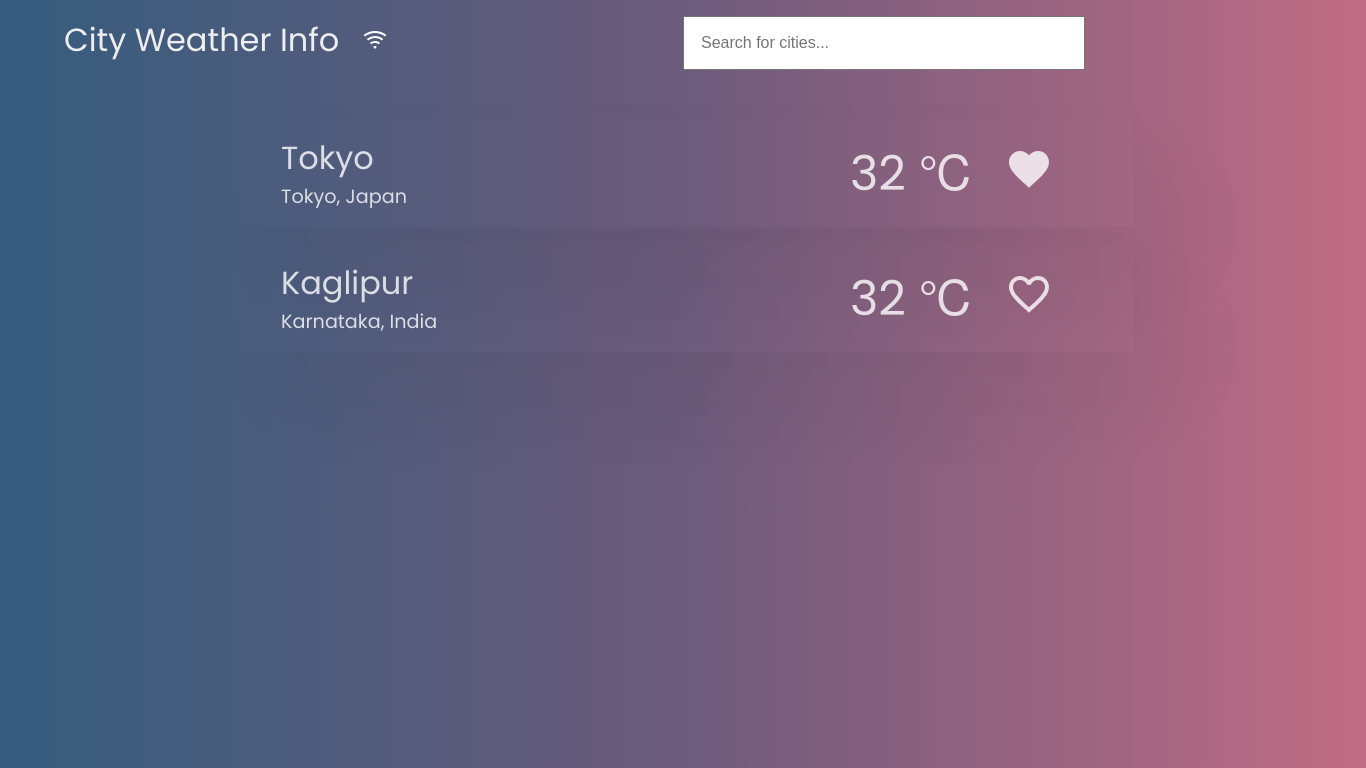
Test: index › should load detail on click
What coordinates should you click on to do the following:
click the heading "Tokyo, Japan"
I would click on:
 (344, 196)
Its box is [281,183,407,210].
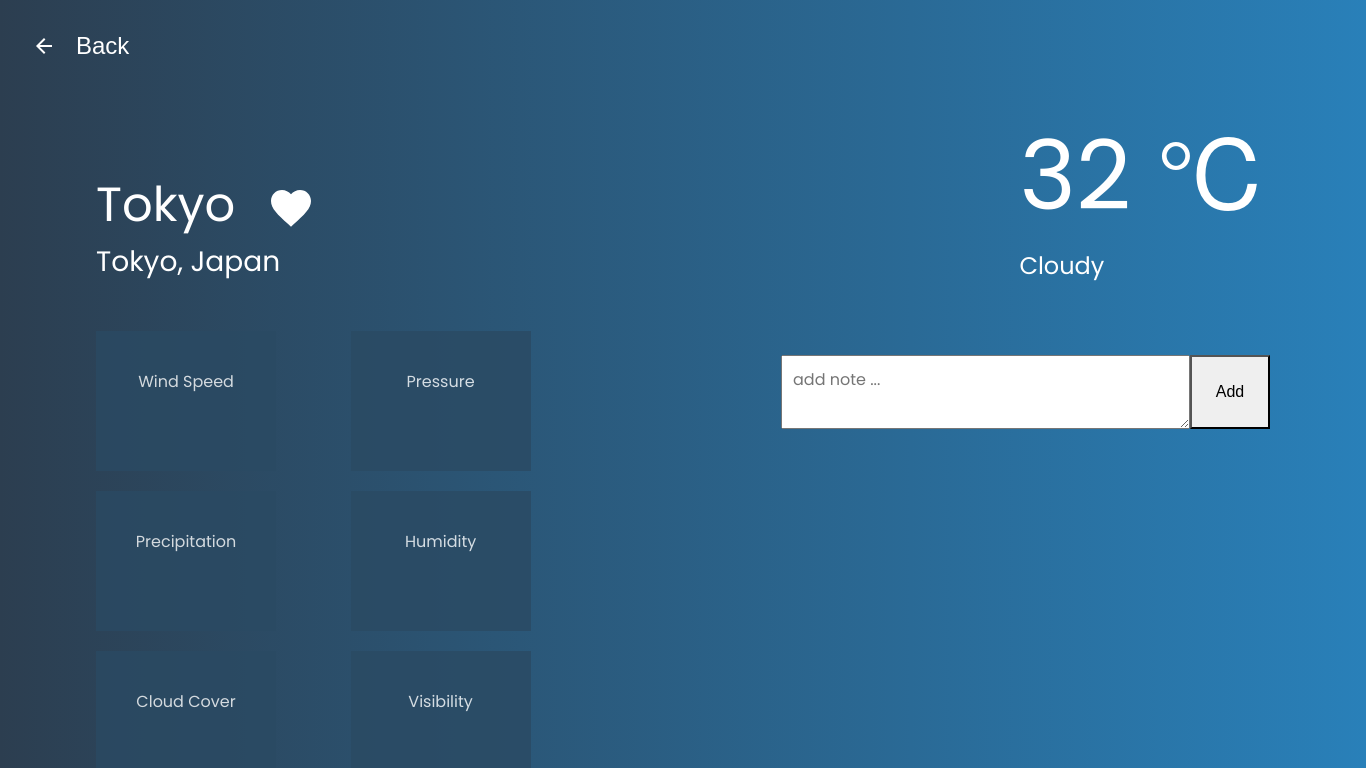
Check: the text "Precipitation" is shown, box [136,530,236,553]
Check: the text "Cloudy" is shown, box [1019,249,1104,282]
Check: the text "Wind Speed" is shown, box [138,370,234,393]
